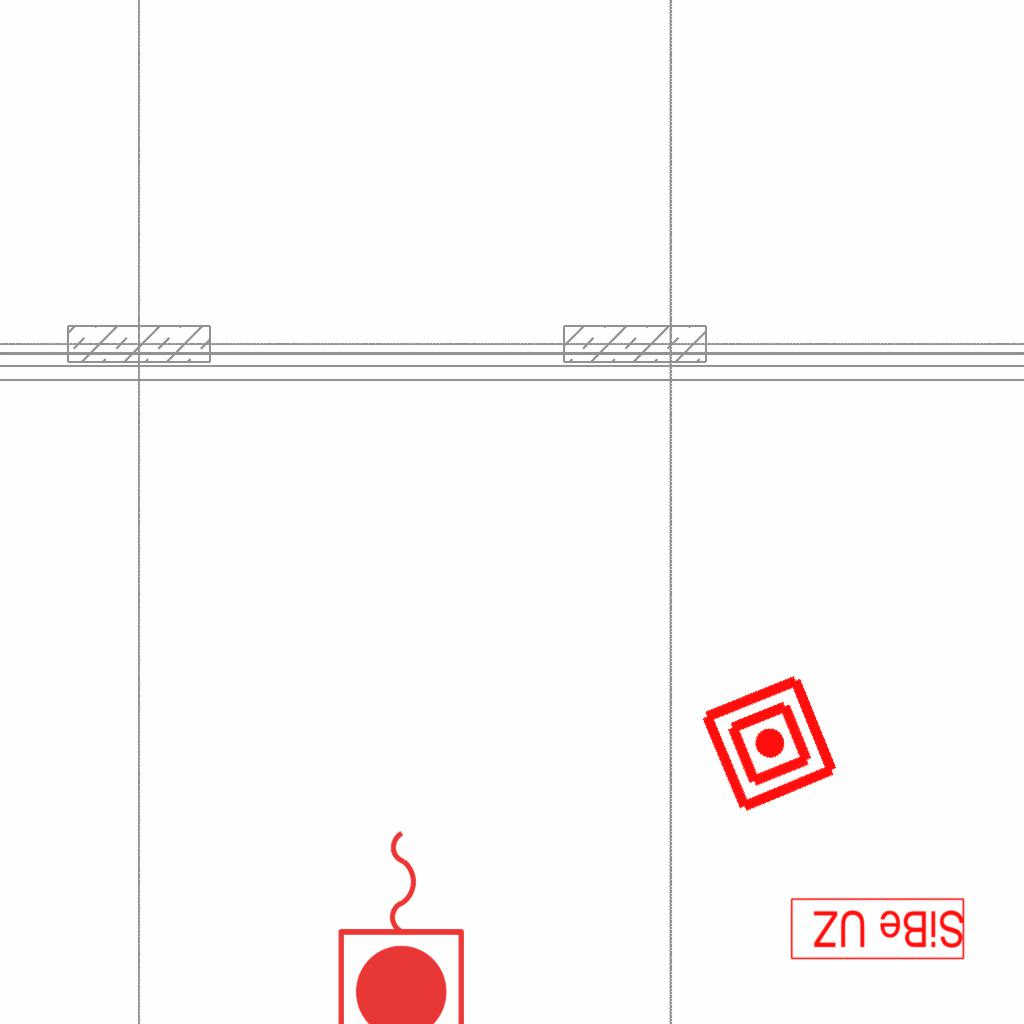NAM-Nichtautomatischer_Melder: (695, 669, 844, 818)
Zentrale_Sicherheitsbeleuchtung: (788, 896, 966, 961)
Zugtaster: (331, 820, 475, 1024)
